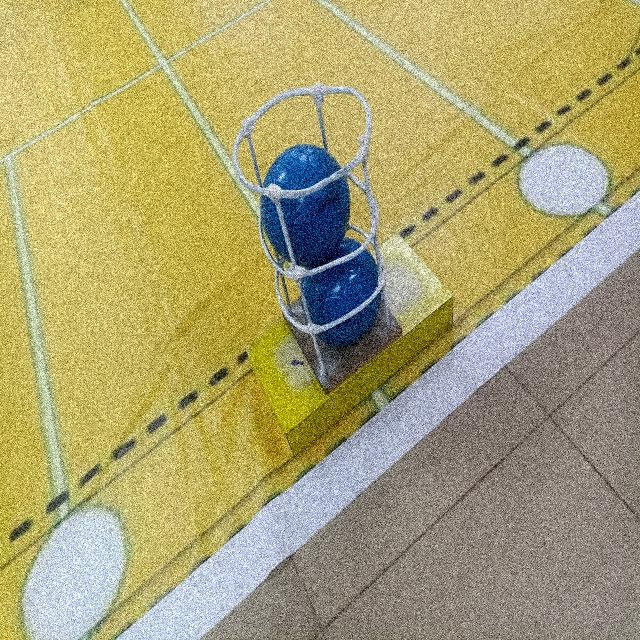blue_ball: (247, 116, 372, 276), (290, 223, 399, 371)
silo: (213, 45, 437, 447)
